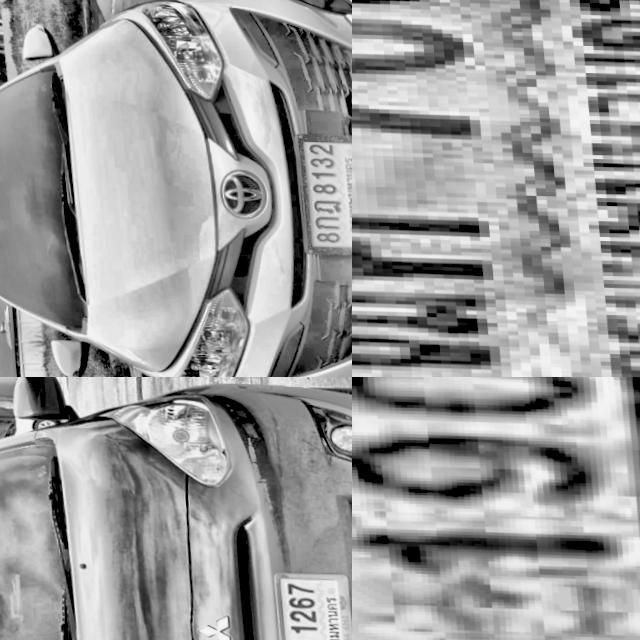license-plate: (352, 0, 640, 377), (352, 377, 640, 640), (278, 131, 352, 257), (258, 568, 352, 640)
